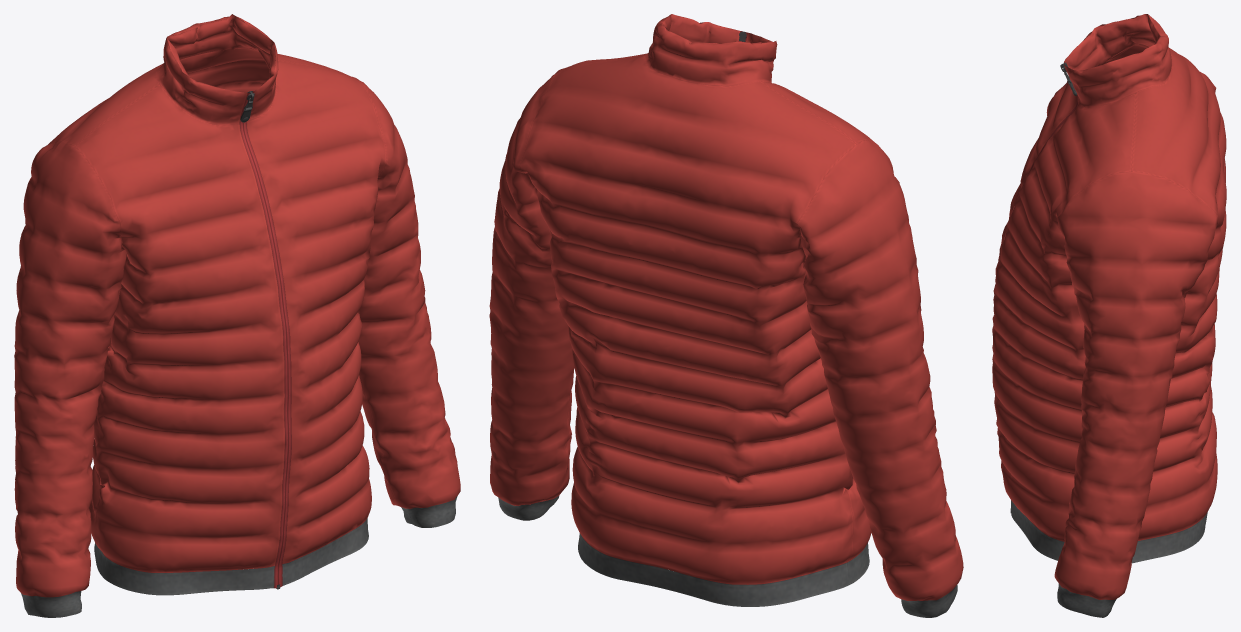
Rendered from jacket1.glb.
3 renders of one model, left to right at view 1: azimuth 30°, elevation 25°; view 2: azimuth 150°, elevation 25°; view 3: azimuth 270°, elevation 25°, orthographic. The views are drawn at different scales.
Visible parts, largest first — view 1: Object_6, Object_10; view 2: Object_6, Object_10; view 3: Object_6, Object_10.
Part boxes in pixels (<box>): Object_6: <box>14,14,460,597</box>; Object_10: <box>21,91,457,617</box>; Object_6: <box>489,14,963,600</box>; Object_10: <box>498,31,957,617</box>; Object_6: <box>992,14,1226,599</box>; Object_10: <box>997,62,1207,617</box>.
Bounding box in the file's own units: 0.6638 × 0.7652 × 0.3293.
Materials: 4 (4 with a texture image).
